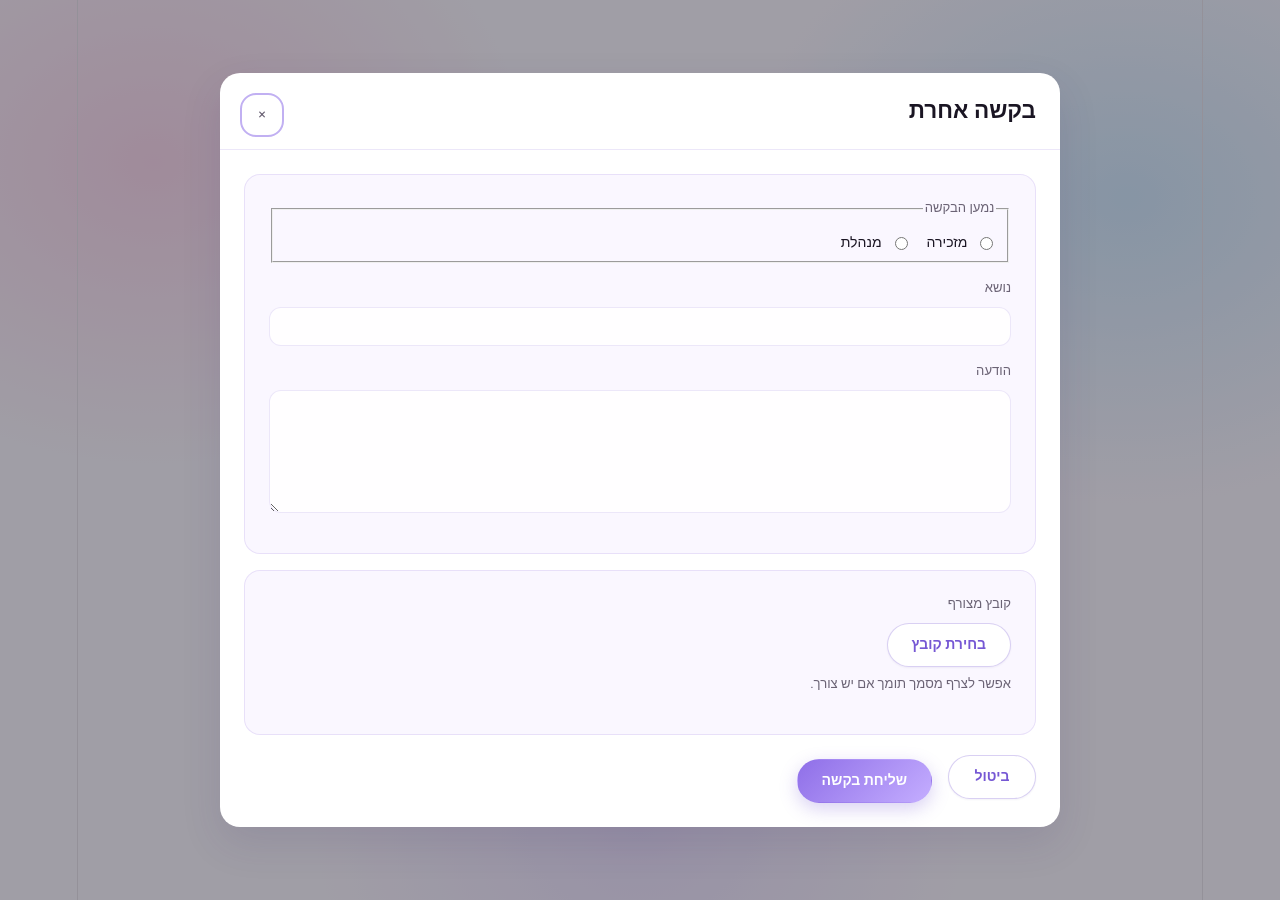
TeacherCreateRequestModal › requires recipient, subject, and message before submitting a general request
Click the button "שליחת בקשה": (864, 781) [797, 759, 932, 803]
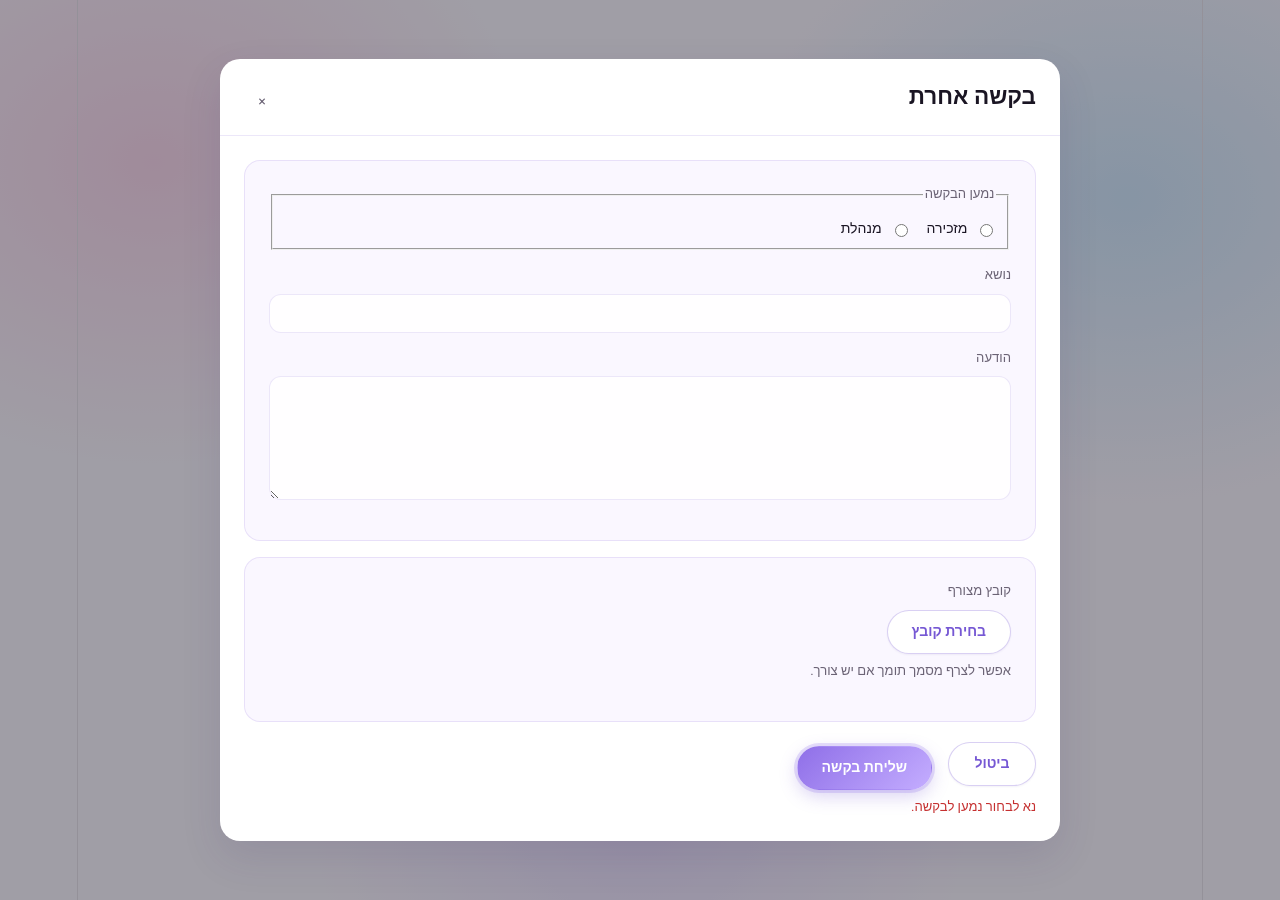
expect the text "נא לבחור נמען לבקשה." is shown: met, box [911, 796, 1036, 816]
